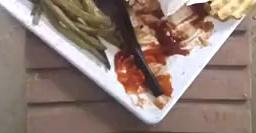green_beans: (31, 0, 126, 69)
